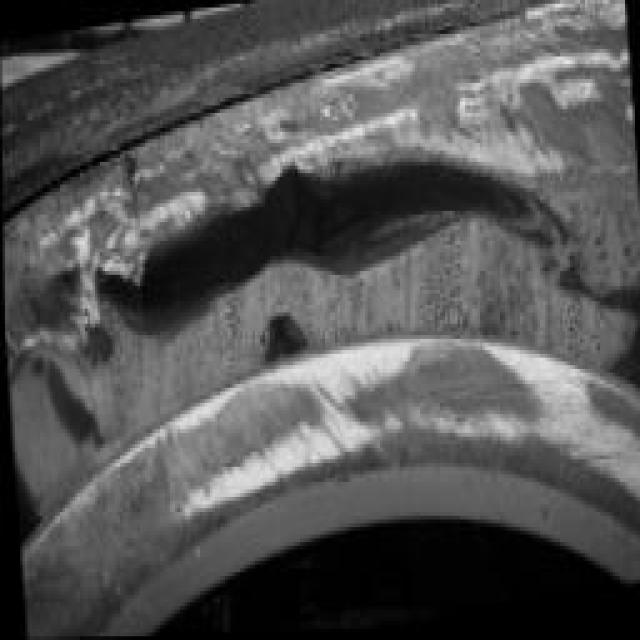Fender: (2, 0, 640, 638)
